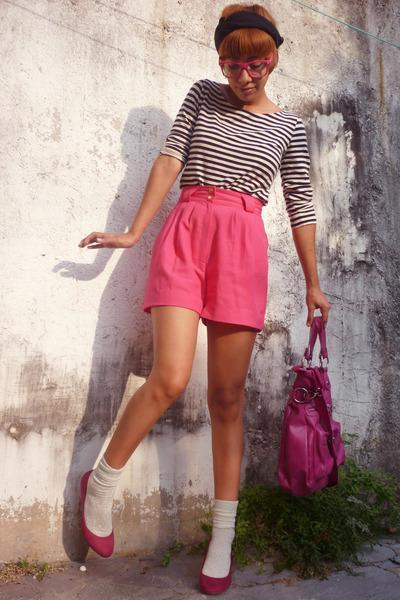short sleeve shirt: (155, 75, 327, 228)
skirt: (137, 187, 270, 327)
